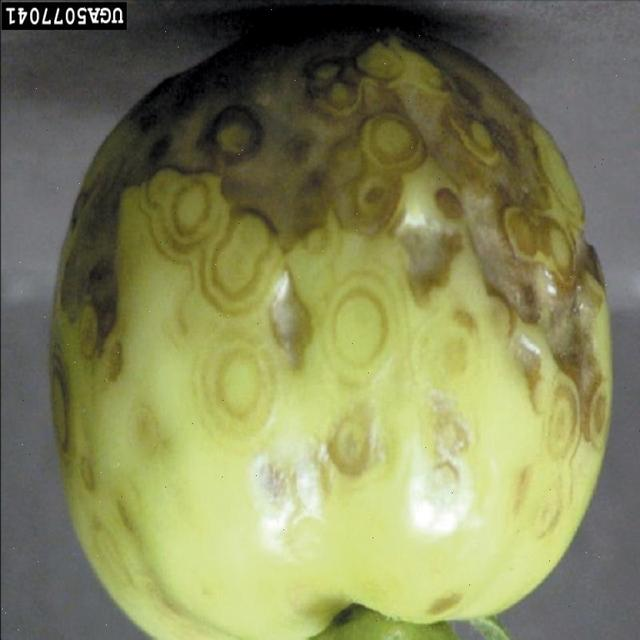Spotted wilt Virus Fruit: (88, 225, 322, 629)
